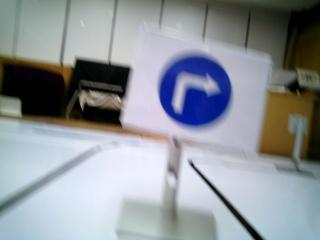right: (137, 30, 250, 146)
